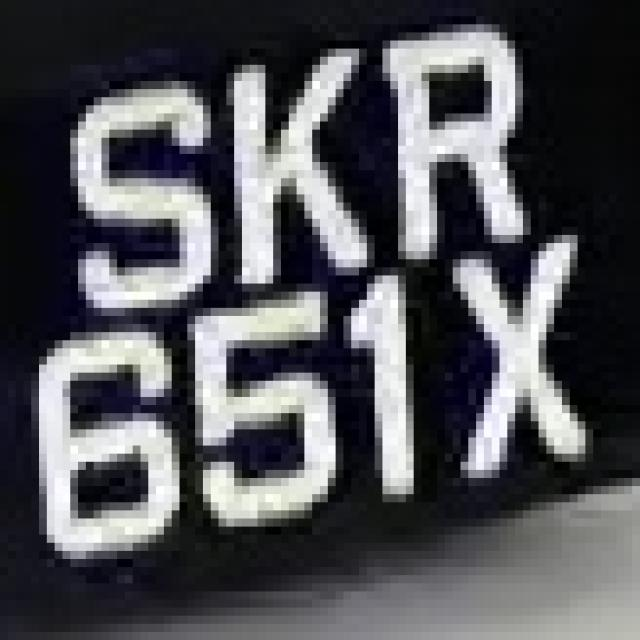1: (312, 243, 437, 519)
5: (164, 275, 336, 551)
6: (31, 340, 211, 543)
K: (180, 65, 374, 283)
R: (367, 17, 546, 276)
S: (39, 73, 226, 316)
X: (414, 211, 608, 510)
